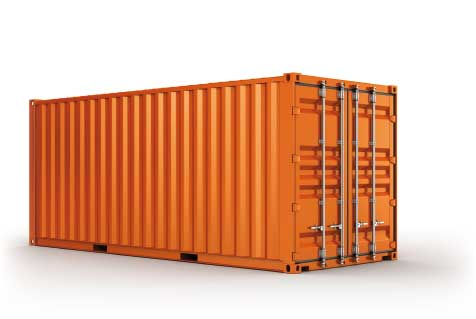container_door: (291, 70, 397, 276)
